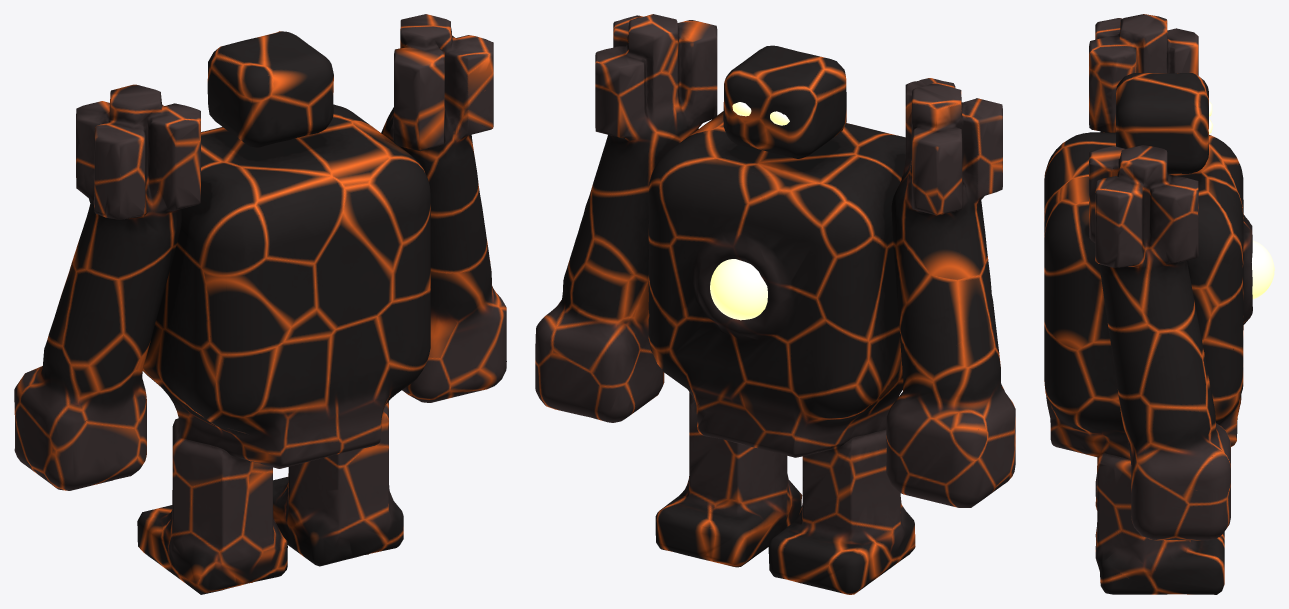
The model's file is Magmok.glb.
3 views of the same model, side by side, from view 1: azimuth 30°, elevation 25°; view 2: azimuth 150°, elevation 25°; view 3: azimuth 270°, elevation 25° (orthographic). The views are drawn at different scales.
Parts seen in each view (by area): view 1: Body, ArmL, ArmR, LegL, LegR, Head; view 2: Body, ArmL, ArmR, LegL, LegR, Head, Body_Glow; view 3: ArmR, Body, LegR, Head, ArmL, Body_Glow.
Part boxes in pixels (x1=…): Body: x1=142, y1=104, x2=430, y2=468; ArmL: x1=14, y1=84, x2=200, y2=490; ArmR: x1=381, y1=14, x2=506, y2=402; LegL: x1=137, y1=418, x2=287, y2=594; LegR: x1=273, y1=401, x2=403, y2=566; Head: x1=207, y1=31, x2=333, y2=147; Body: x1=648, y1=111, x2=905, y2=457; ArmL: x1=886, y1=78, x2=1015, y2=507; ArmR: x1=535, y1=14, x2=717, y2=422; LegL: x1=768, y1=429, x2=915, y2=594; LegR: x1=655, y1=392, x2=802, y2=567; Head: x1=723, y1=45, x2=846, y2=158; Body_Glow: x1=710, y1=259, x2=767, y2=320; ArmR: x1=1089, y1=145, x2=1230, y2=540; Body: x1=1044, y1=132, x2=1252, y2=459; LegR: x1=1095, y1=453, x2=1224, y2=594; Head: x1=1116, y1=73, x2=1208, y2=173; ArmL: x1=1089, y1=14, x2=1198, y2=132; Body_Glow: x1=1252, y1=240, x2=1274, y2=299.
Bounding box in the file's own units: 2.25 × 2.34 × 1.05.
Materials: 3 (1 with a texture image).
